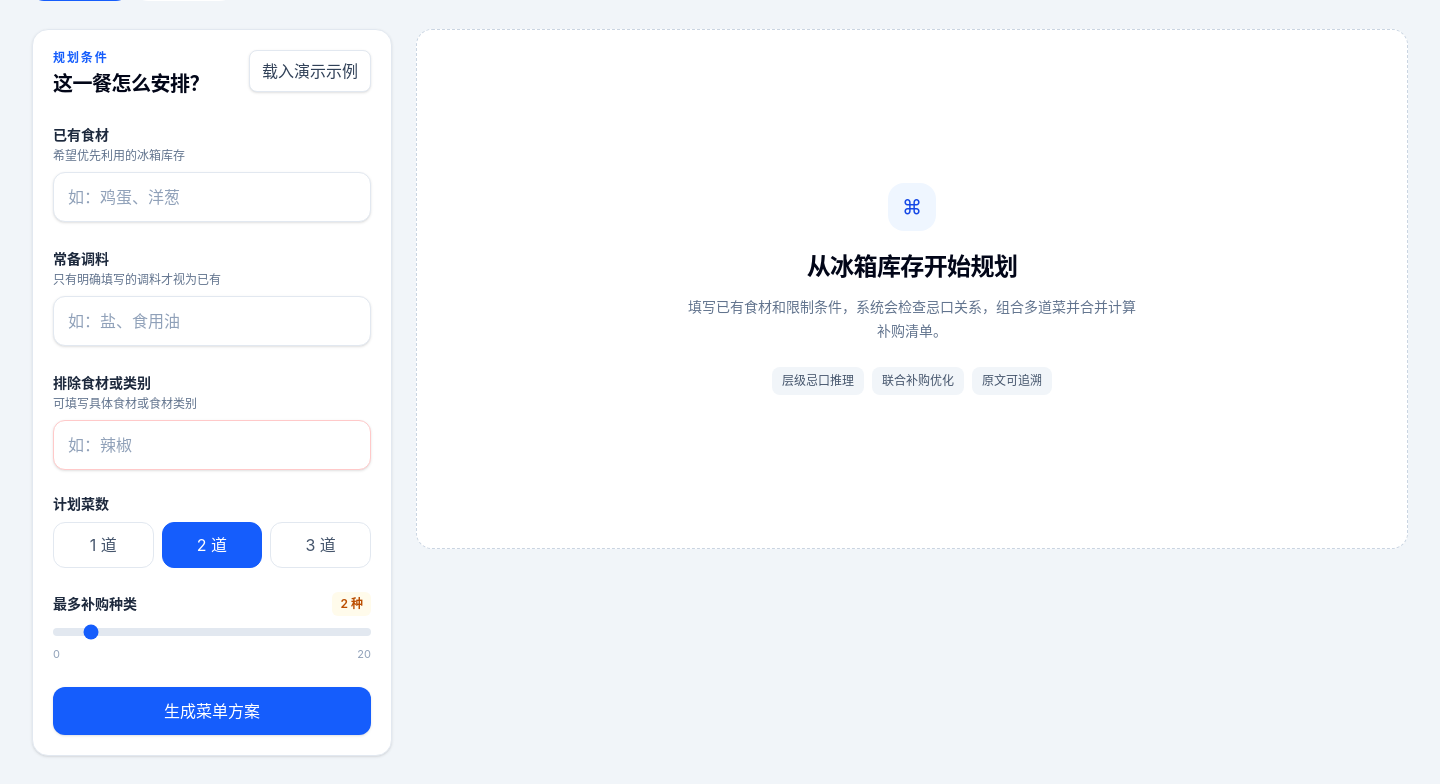
CookKG planner page › distinguishes invalid constraints from a network failure
This screenshot has width=1440, height=784.
(page scrolled)
Click the button "生成菜单方案".
click(212, 710)  # box [53,686,371,734]
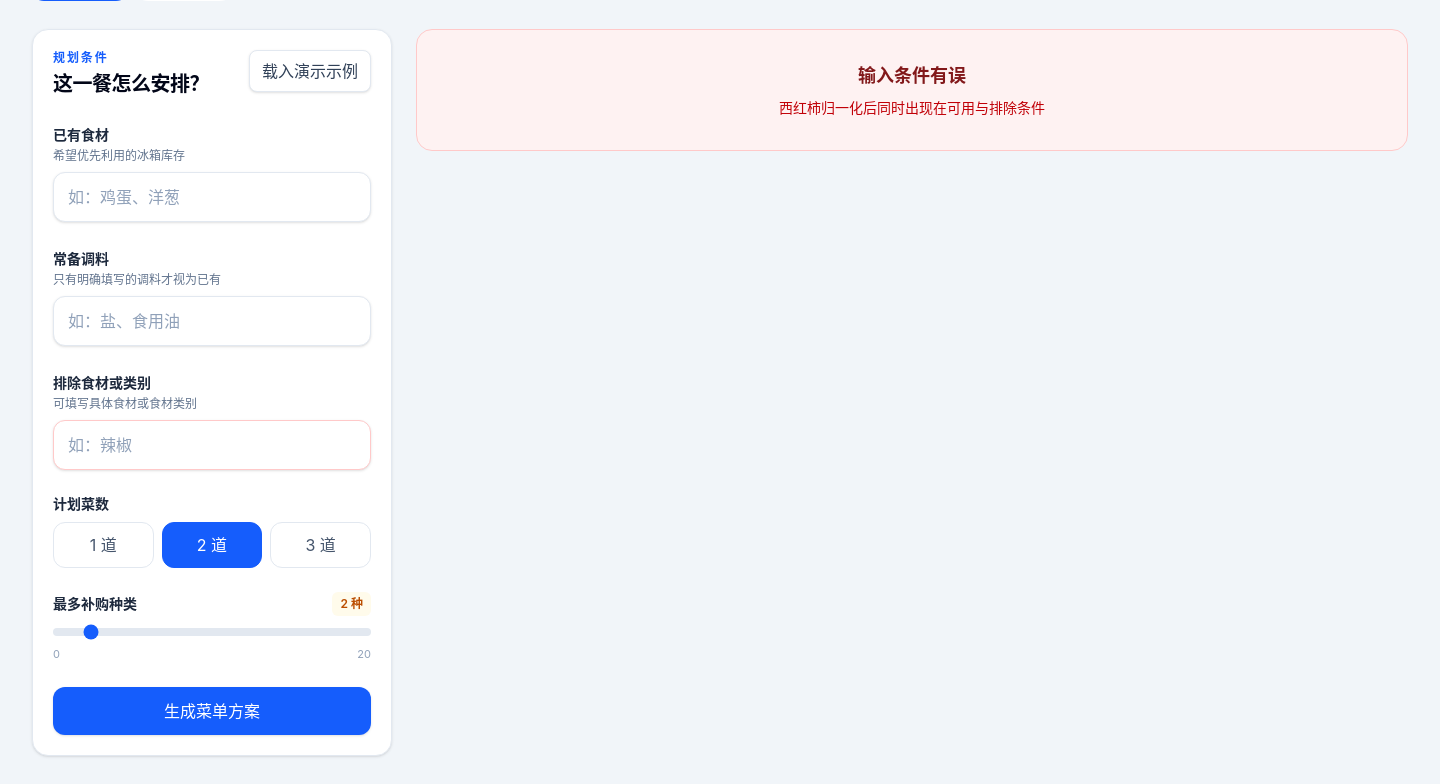
Result: the text "输入条件有误" is shown at [858,65,966,86]
Result: the text "西红柿归一化后同时出现在可用与排除条件" is shown at [779,99,1045,116]
